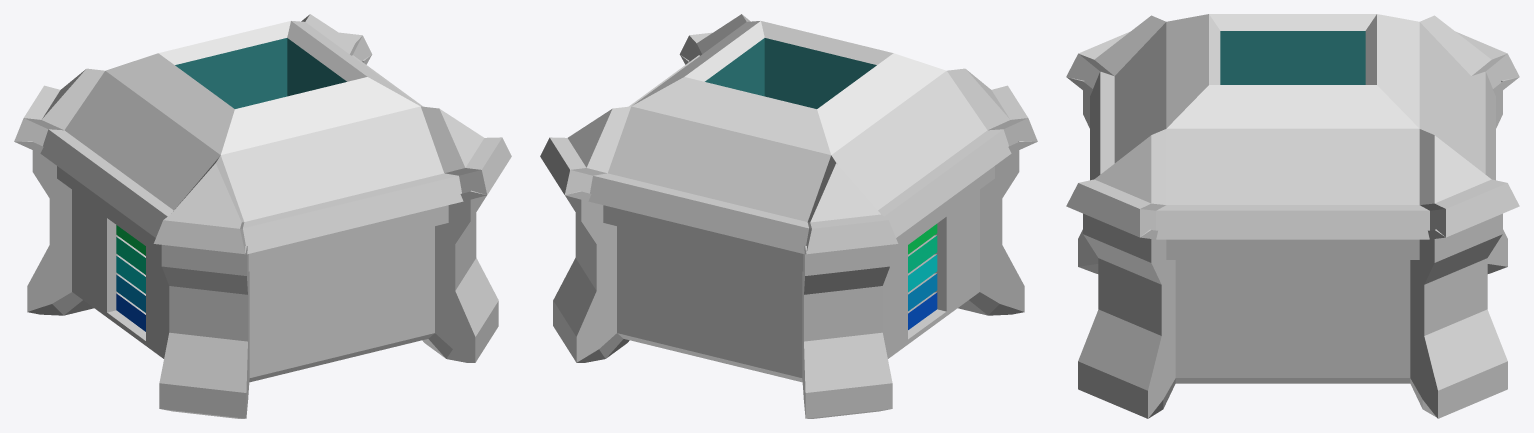
Rendered from EnergyReceptacle.fbx.
3 views of the same model, side by side, from view 1: azimuth 30°, elevation 25°; view 2: azimuth 150°, elevation 25°; view 3: azimuth 270°, elevation 25° (orthographic). The views are drawn at different scales.
Visible parts, largest first — view 1: EnergyReceptacle; view 2: EnergyReceptacle; view 3: EnergyReceptacle.
Boxes of the visible parts, <box> form: EnergyReceptacle: <box>14,14,511,418</box>; EnergyReceptacle: <box>540,14,1037,418</box>; EnergyReceptacle: <box>1066,14,1519,418</box>.
Bounding box in the file's own units: 0.9131 × 0.6326 × 0.9131.
